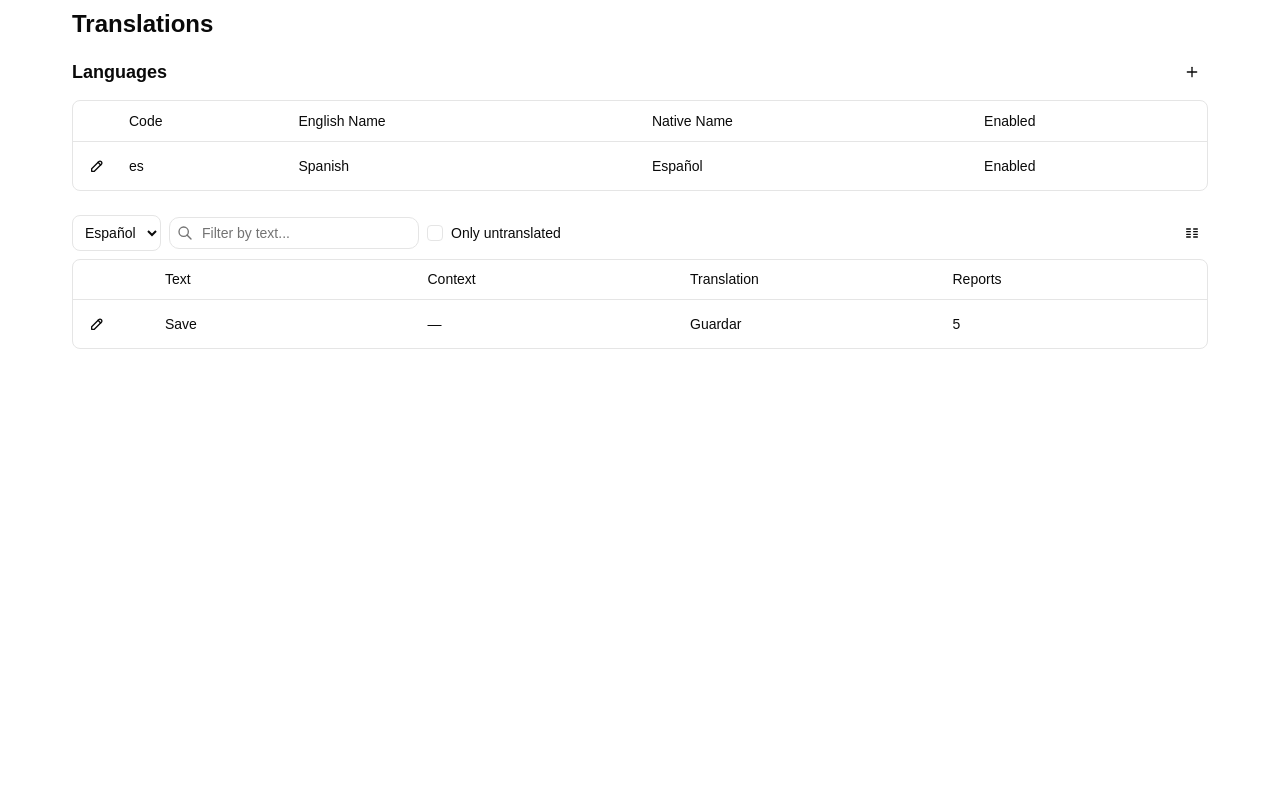
Test: TranslationsAdminPage › does not save when the edit modal is cancelled
Check: the text "Save" is shown, box [157,300,420,348]
Click the button named "Edit translation" at point(97, 324), box [81,308,113,340]
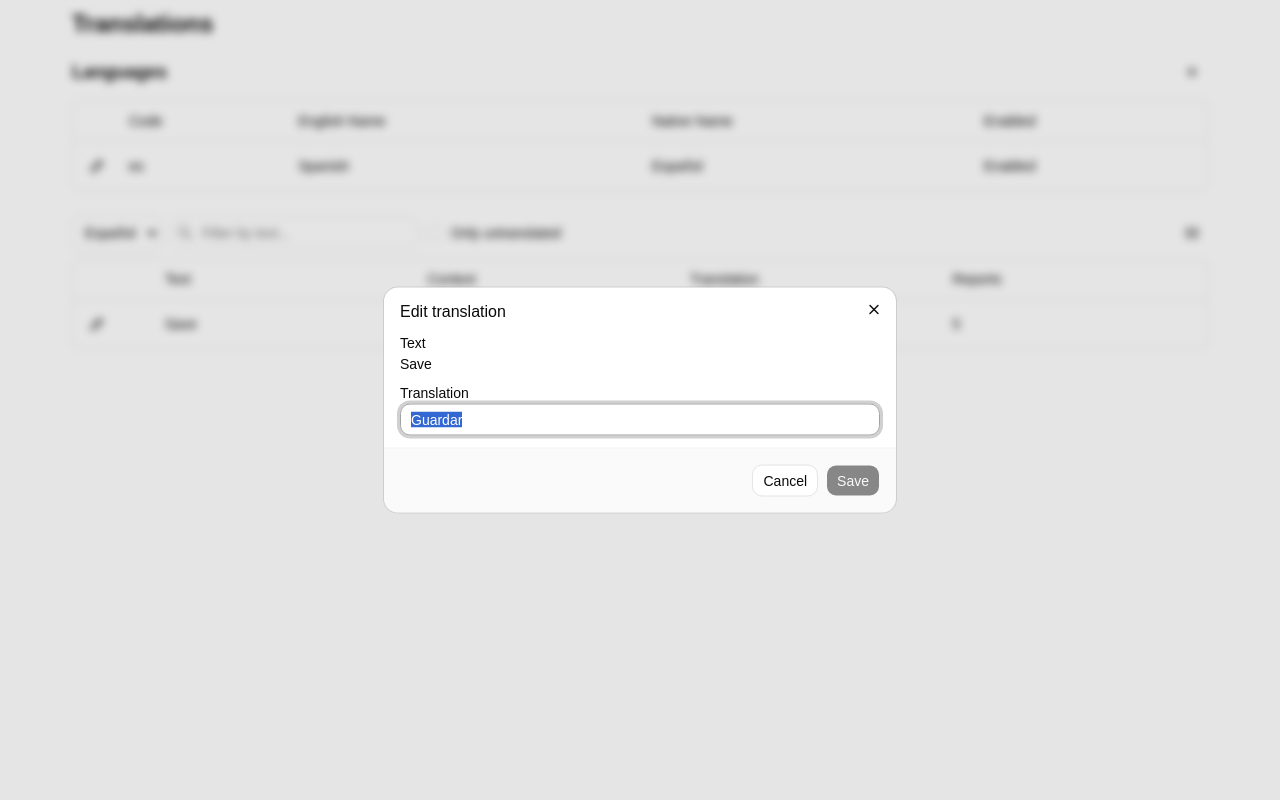
Replace the text in the field labelled "Translation" with "x" at point(640, 420), box [400,404,880,436]
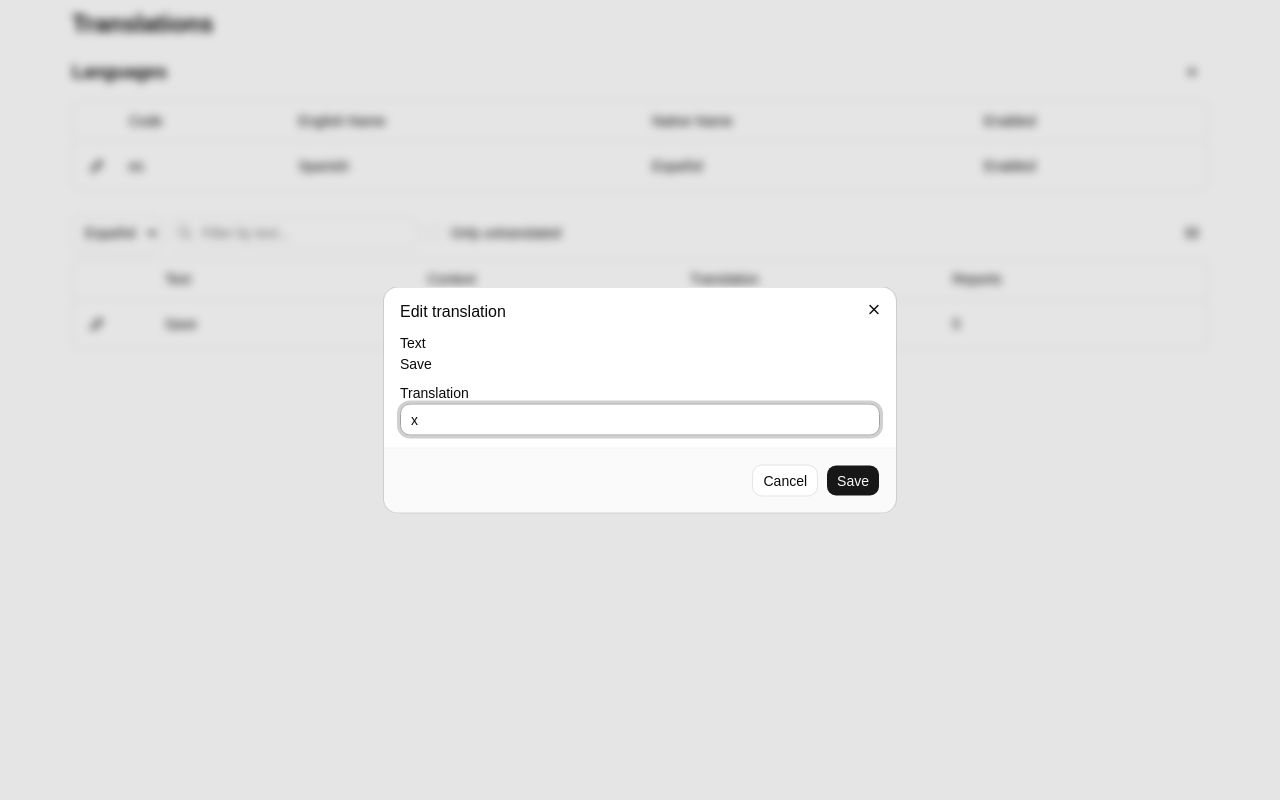
Click the button "Cancel" at point(785, 480), box [752,464,818,496]
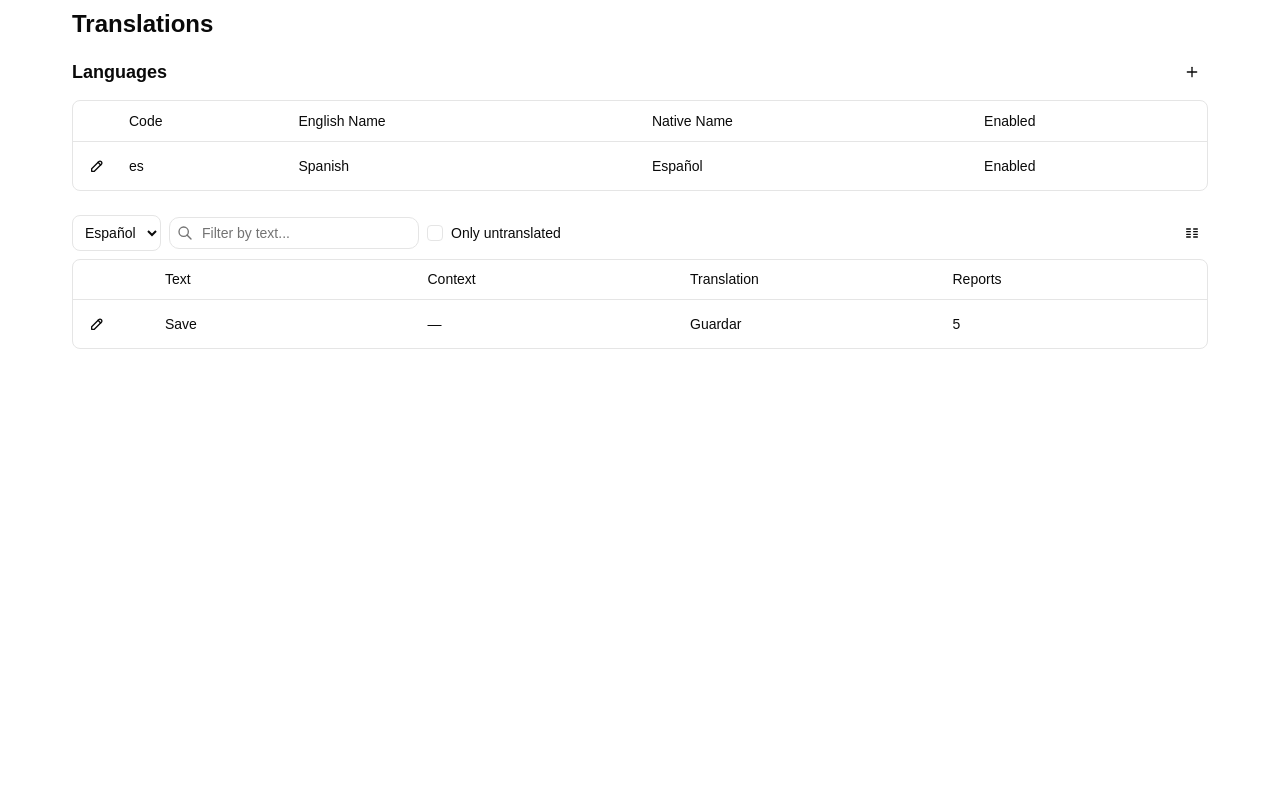
Check: the text "Guardar" is shown, box [682,300,944,348]
Check: the dialog is gone
